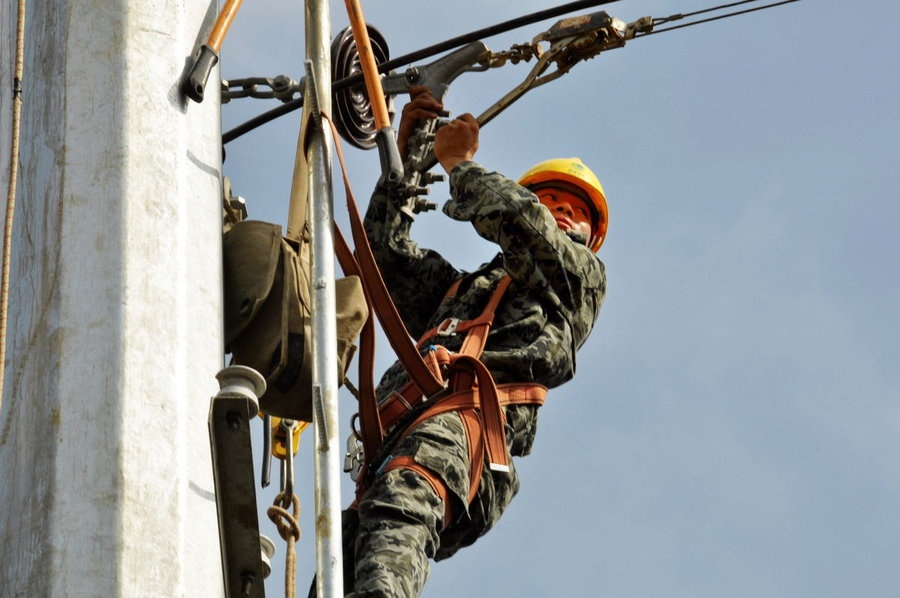yellow: (508, 150, 609, 255)
